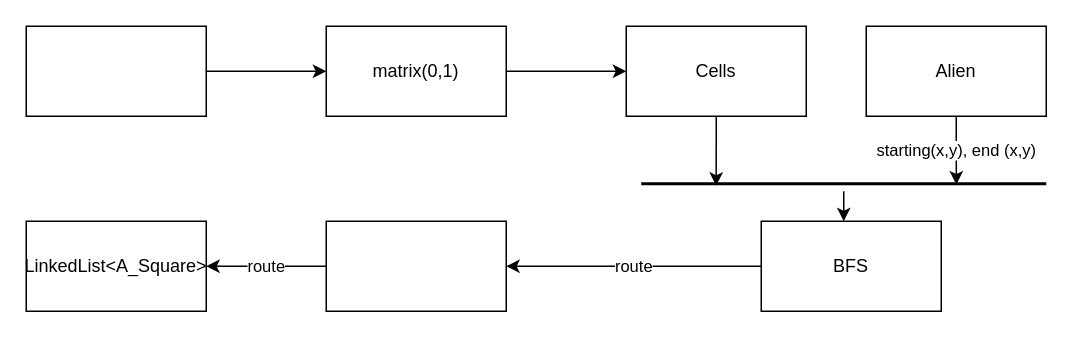
The diagram is 1074 pixels wide and 338 high, and some of its shapes have lost their labels. Here are the shapes that lost their labels. From the top down, the box of each, then its label:
(25, 25, 206, 116): matrix(A_Square)
(325, 220, 506, 311): LinkedList<Cells>
